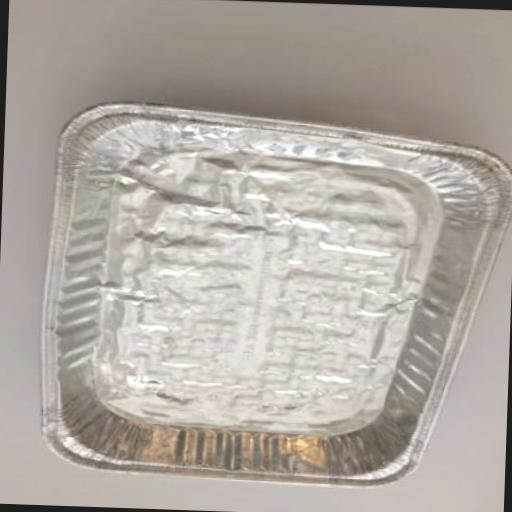metal: (35, 98, 512, 493)
